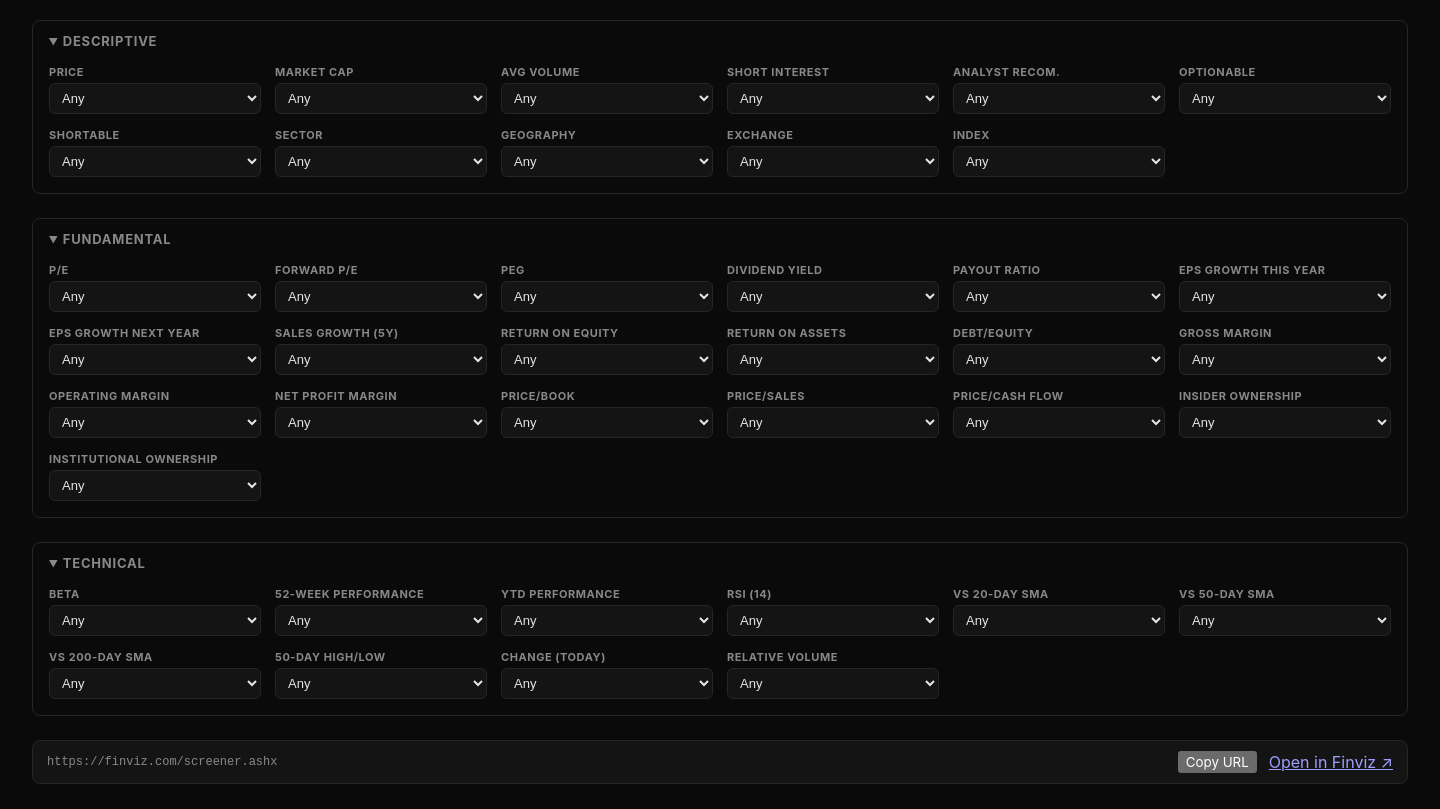
Test: ScreenerTab › updates the displayed URL when a filter is selected
Select "Under $10" in the dropdown labelled "Price" at (155, 98), box [49,83,261,114]
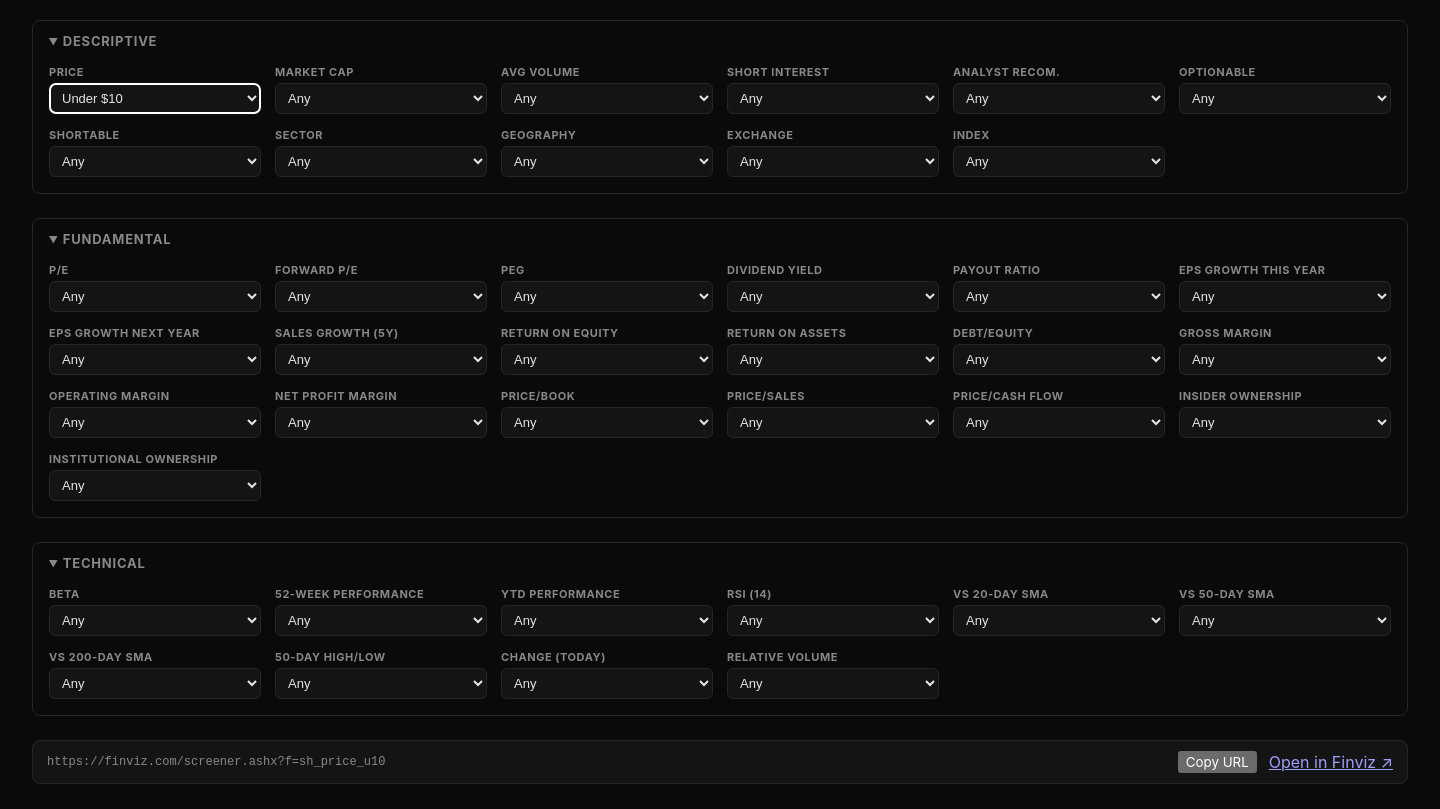
Expected: the text "https://finviz.com/screener.ashx?f=sh_price_u10" is shown, [47,755,386,769]
